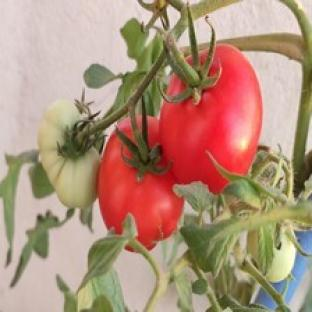Tomato: (161, 45, 261, 193), (98, 133, 183, 249), (38, 101, 100, 207), (267, 232, 296, 282)
